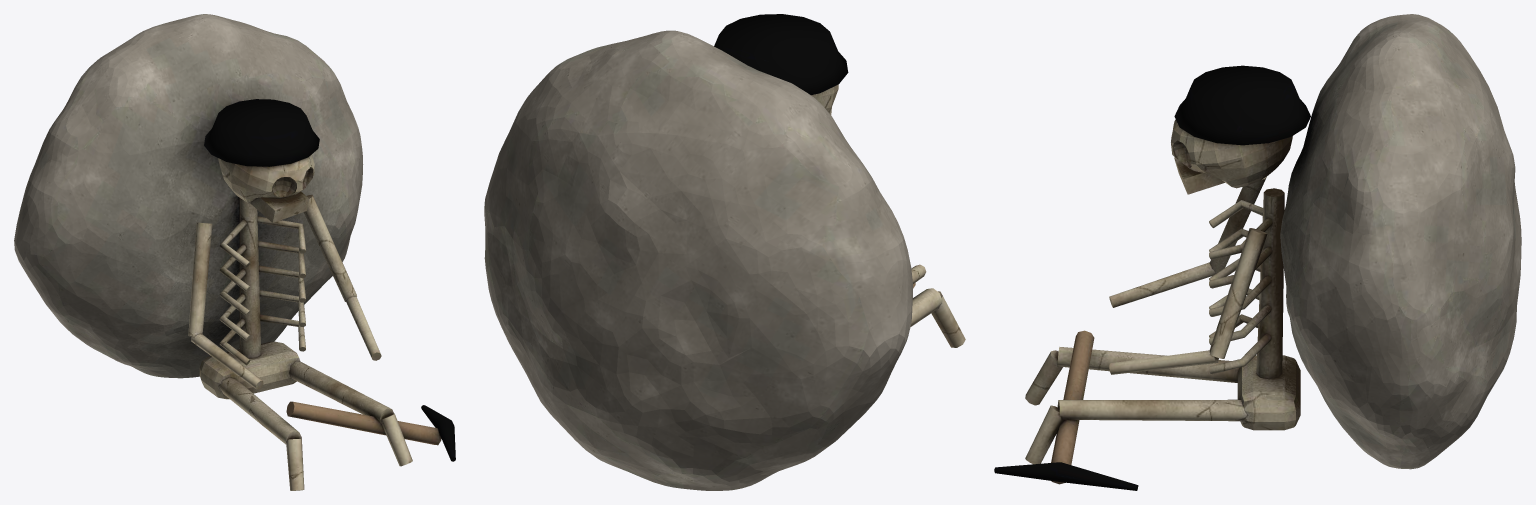
The model's file is dg_esqueleto_mineiro.glb.
The picture shows the model from 3 angles, left to right: view 1: azimuth 30°, elevation 25°; view 2: azimuth 150°, elevation 25°; view 3: azimuth 270°, elevation 25°; orthographic projection. The views are drawn at different scales.
Parts seen in each view (by area): view 1: dg_esqueleto_mineiro_tronco; view 2: dg_esqueleto_mineiro_tronco; view 3: dg_esqueleto_mineiro_tronco.
Boxes of the visible parts, x1=… form: dg_esqueleto_mineiro_tronco: x1=14, y1=14, x2=455, y2=490; dg_esqueleto_mineiro_tronco: x1=484, y1=14, x2=965, y2=490; dg_esqueleto_mineiro_tronco: x1=994, y1=14, x2=1521, y2=490.
Bounding box in the file's own units: 0.8535 × 0.8474 × 1.
Materials: 1 (1 with a texture image).
